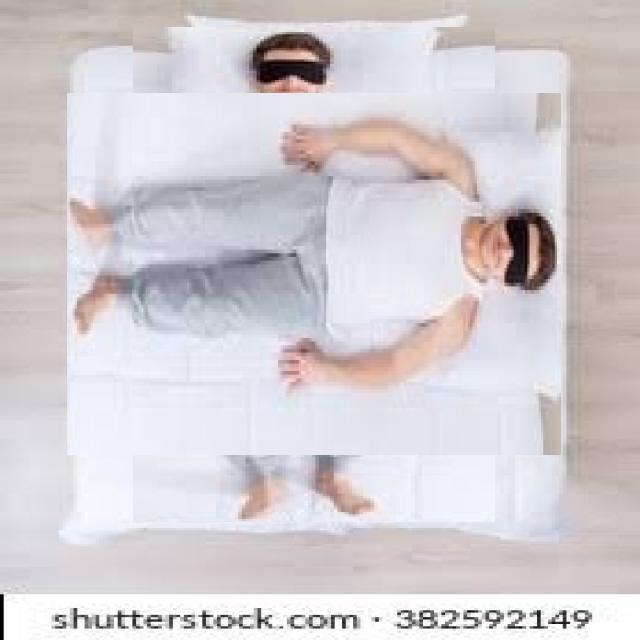Fall: (85, 51, 568, 467)
